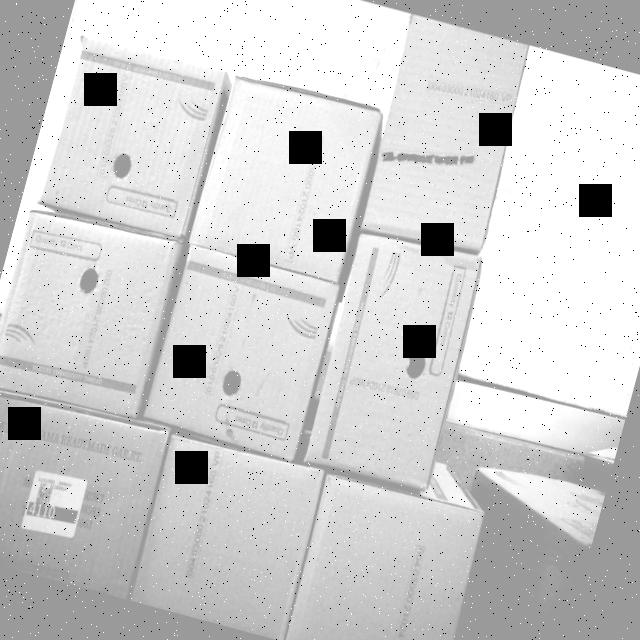box: (299, 232, 486, 494), (139, 245, 346, 464), (359, 15, 540, 262), (189, 67, 389, 286), (38, 28, 232, 240), (0, 207, 186, 423), (130, 438, 324, 640), (281, 462, 486, 640), (0, 387, 170, 598)
